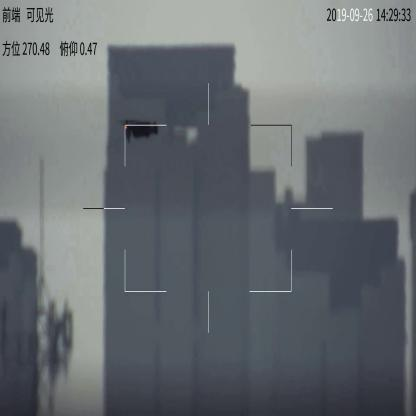uav: (120, 117, 160, 141)
